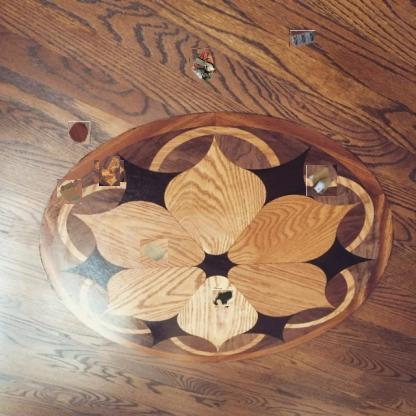dirty: (306, 164, 337, 196), (189, 48, 217, 82), (96, 158, 122, 184), (140, 239, 168, 263), (56, 180, 82, 205), (289, 30, 315, 47)
liquid: (68, 121, 91, 144), (213, 288, 232, 308)
